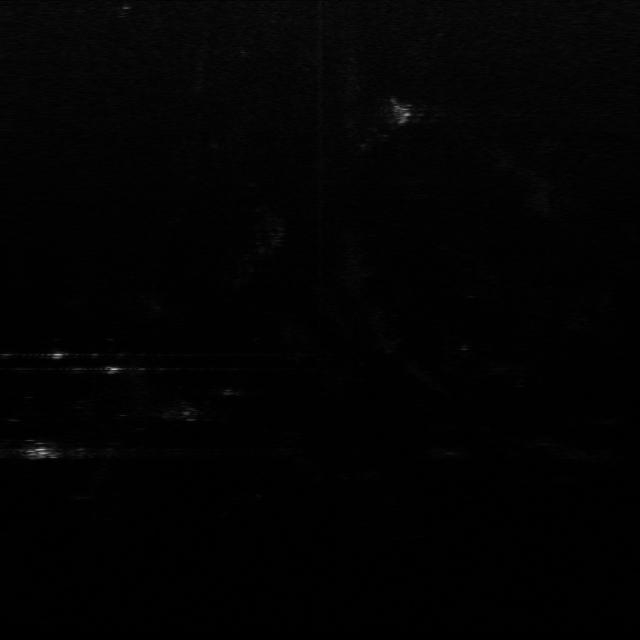rov: (22, 443, 62, 464)
